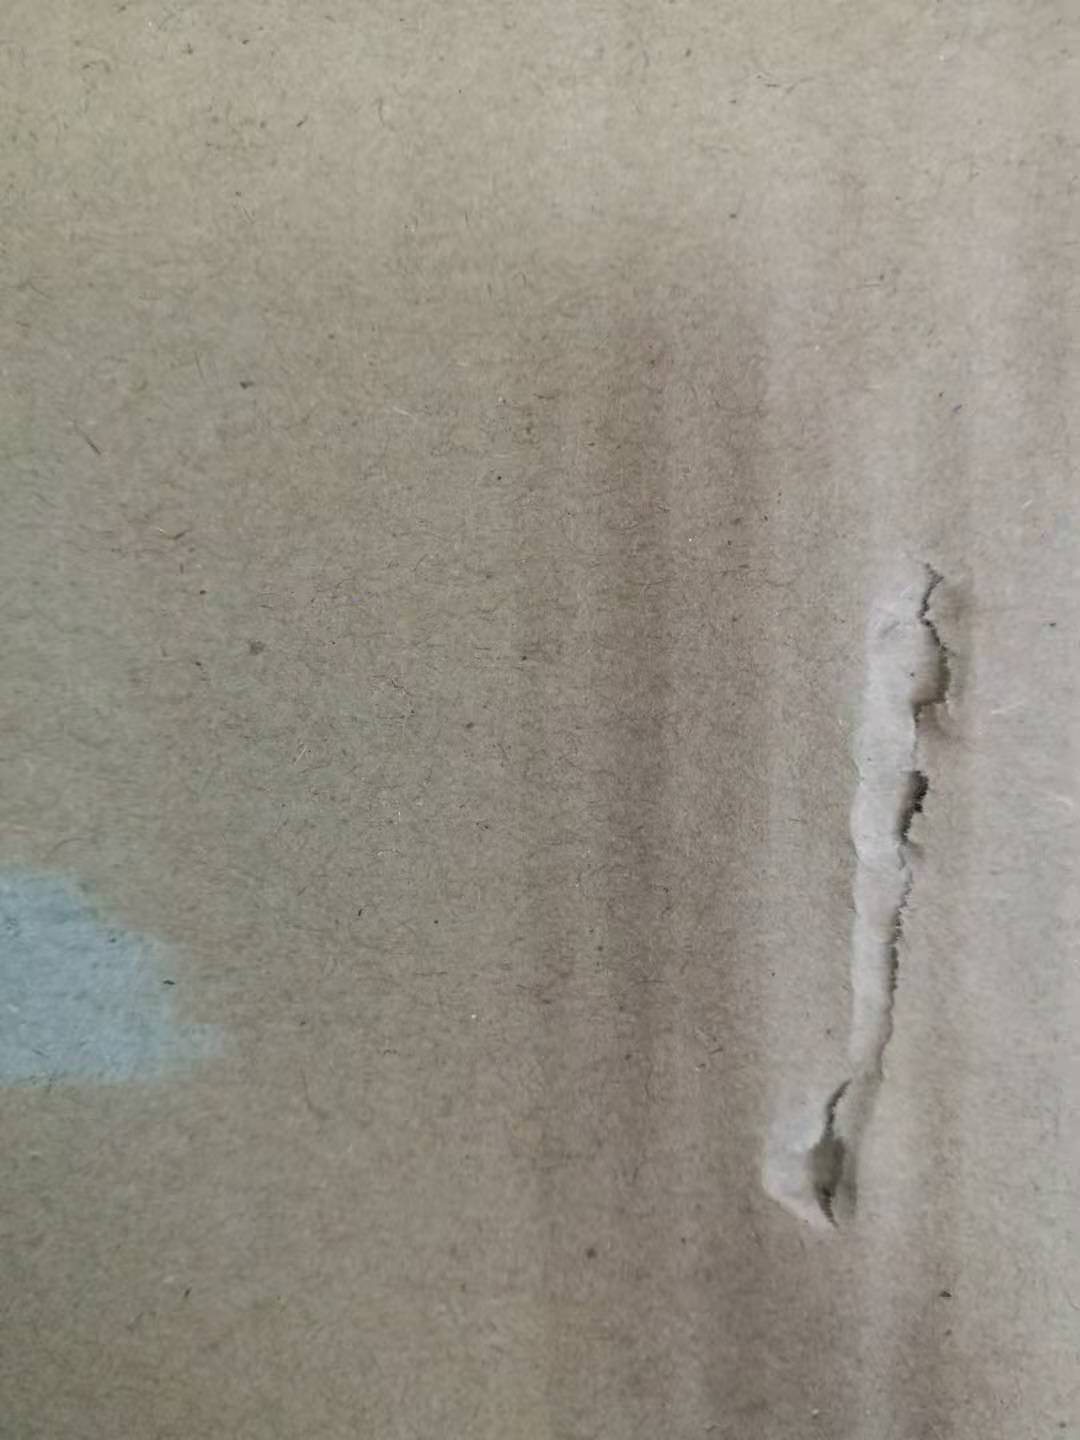defect: (704, 520, 1033, 1265), (2, 825, 269, 1153)
